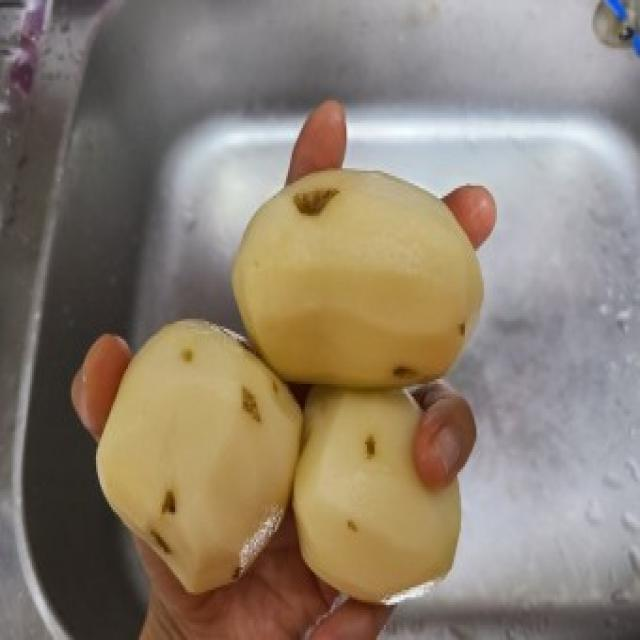potato: (99, 312, 299, 596), (233, 164, 484, 390), (293, 368, 462, 604)
